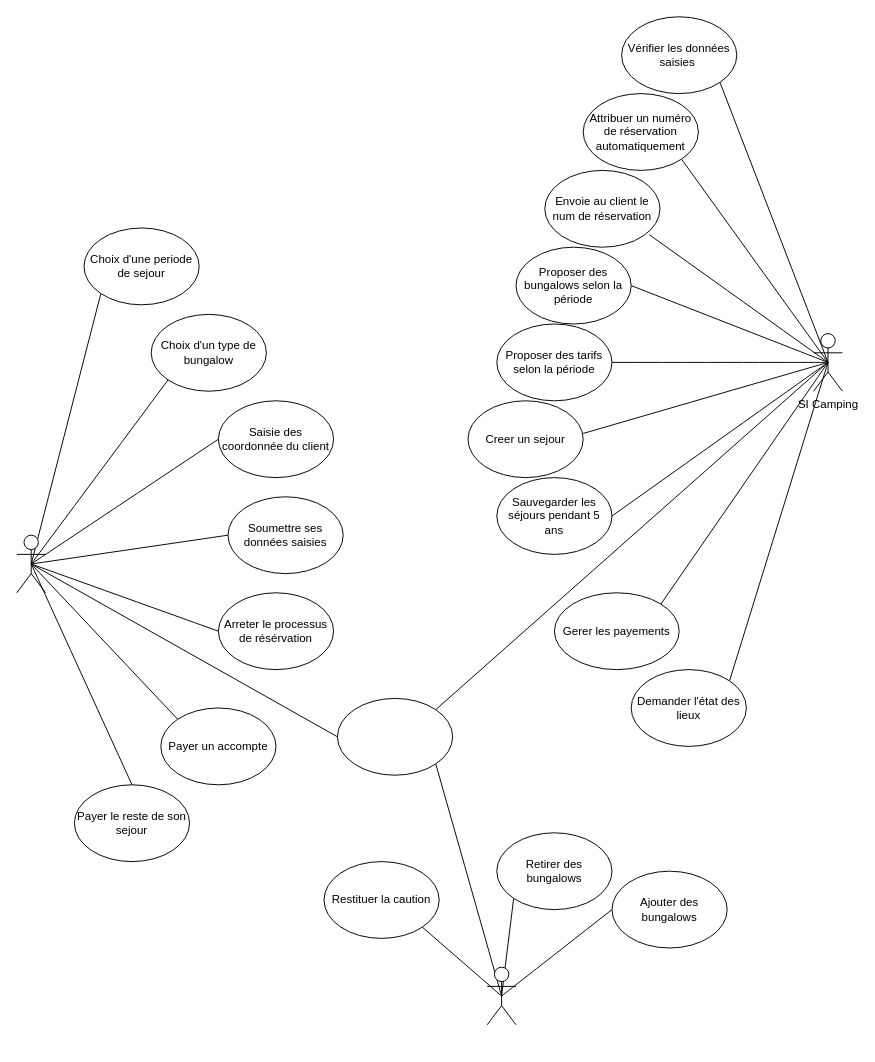
This 875x1062 diagram has some shape labels left out. The centre of each missing label's shape, as x and y in pixels:
Annulation d'une réservation: the point at 394,736
Client: the point at 31,563
Gest Camping: the point at 501,995
